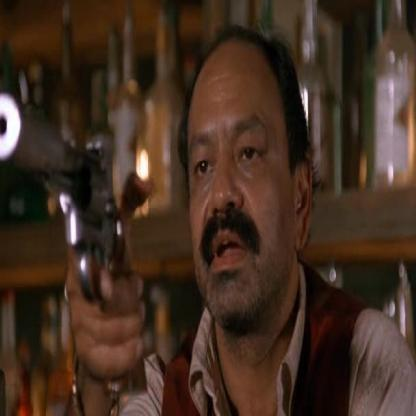gun: (0, 69, 156, 410)
